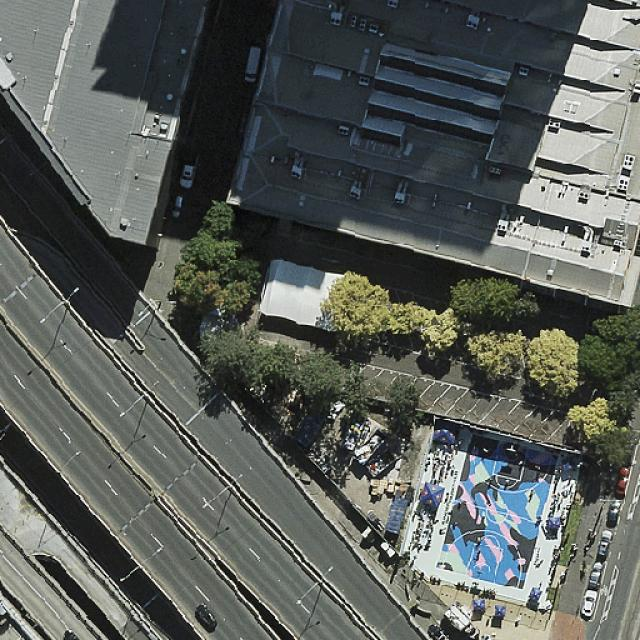Bike-Symbols: (600, 584, 608, 596)
